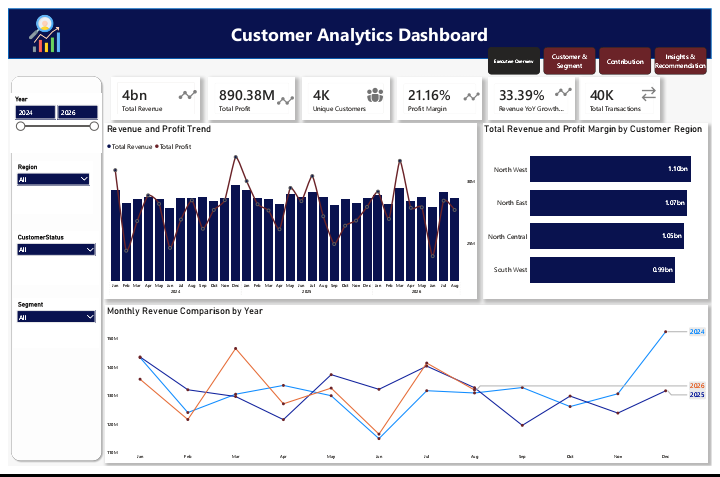

What the dashboard file says about the page in this screenshot:
{"tool":"powerbi","page":{"name":"Executive Overview","canvas":[2000,1300],"ordinal":1},"visuals":[{"type":"shape","box":[0,185.1,273.6,1106.6],"z":0},{"type":"shape","title":"EXECUTIVE BUSINESS OVERVIEW","box":[0,0,1999.4,141.9],"z":1000},{"type":"cardVisual","fields":{"Data":["Biz_Sales.Total Sales"]},"box":[294.1,194.2,250.9,121.4],"z":2000},{"type":"cardVisual","fields":{"Data":["Biz_Sales.Total Profit"]},"box":[569.8,194.2,244.8,121.4],"z":3000},{"type":"cardVisual","fields":{"Data":["Biz_Sales.Unique Customers"]},"box":[835.1,194.2,248.9,121.4],"z":4000},{"type":"cardVisual","fields":{"Data":["Biz_Sales.Profit Margin"]},"box":[1106.6,196.2,240.7,119.3],"z":5000},{"type":"cardVisual","fields":{"Data":["Biz_Sales.Total Transactions"]},"box":[1622.9,194.2,230.4,121.4],"z":6000},{"type":"cardVisual","fields":{"Data":["Biz_Sales.Revenue YoY Growth %"]},"box":[1363.8,196.2,244.8,119.3],"z":7000},{"type":"clusteredBarChart","title":"Total Revenue by Customer Region","fields":{"Y":["Biz_Sales.Total Revenue"],"Category":["Biz_Customers.Region"]},"box":[1349.4,327.1,627.4,497.8],"z":8000},{"type":"lineClusteredColumnComboChart","title":"Revenue and Profit Trend","fields":{"Category":["Date.Year","Date.MonthName"],"Y":["Biz_Sales.Total Revenue"],"Y2":["Biz_Sales.Total Profit"]},"box":[273.6,327.1,1059.3,497.8],"z":9000},{"type":"lineChart","title":"Monthly Revenue Comparison by Year","fields":{"Category":["Date.MonthName"],"Series":["Date.Year"],"Y":["Biz_Sales.Total Revenue"]},"box":[273.6,843.4,1703.2,448.4],"z":10000},{"type":"slicer","fields":{"Values":["Date.Year"]},"box":[6.2,240.7,259.2,170.7],"z":11000},{"type":"slicer","fields":{"Values":["Biz_Customers.Region"]},"box":[14.4,434,226.3,150.2],"z":12000},{"type":"slicer","fields":{"Values":["Biz_Customers.CustomerStatus"]},"box":[14.4,633.5,242.7,152.2],"z":13000},{"type":"slicer","fields":{"Values":["Biz_Customers.Segment"]},"box":[14.4,824.8,242.7,139.9],"z":14000},{"type":"pageNavigator","box":[1363.8,109,625.3,78.2],"z":15000},{"type":"image","box":[479.3,207.8,61.7,72],"z":16000},{"type":"image","box":[759,230.4,57.6,61.7],"z":17000},{"type":"image","box":[1289.7,209.8,55.5,78.2],"z":18000},{"type":"image","box":[1546.8,207.8,61.7,57.6],"z":19000},{"type":"image","box":[1797.8,218,47.3,49.4],"z":21000},{"type":"image","box":[1018.2,209.8,49.4,69.9],"z":22000},{"type":"image","box":[14.4,16.5,176.9,109],"z":23000}]}

Visuals, with their boxes in screenshot pixels (x1, y1, x2, y2), scaled from the page's 2000x1300 canvas onto the 720x477 screenshot:
shape: bbox=[0, 68, 98, 474]
"EXECUTIVE BUSINESS OVERVIEW" shape: bbox=[0, 0, 719, 52]
cardVisual - Biz_Sales.Total Sales: bbox=[106, 71, 196, 116]
cardVisual - Biz_Sales.Total Profit: bbox=[205, 71, 293, 116]
cardVisual - Biz_Sales.Unique Customers: bbox=[301, 71, 390, 116]
cardVisual - Biz_Sales.Profit Margin: bbox=[398, 72, 485, 116]
cardVisual - Biz_Sales.Total Transactions: bbox=[584, 71, 667, 116]
cardVisual - Biz_Sales.Revenue YoY Growth %: bbox=[491, 72, 579, 116]
"Total Revenue by Customer Region" clusteredBarChart: bbox=[486, 120, 712, 303]
"Revenue and Profit Trend" lineClusteredColumnComboChart: bbox=[98, 120, 480, 303]
"Monthly Revenue Comparison by Year" lineChart: bbox=[98, 309, 712, 474]
slicer - Date.Year: bbox=[2, 88, 96, 151]
slicer - Biz_Customers.Region: bbox=[5, 159, 87, 214]
slicer - Biz_Customers.CustomerStatus: bbox=[5, 232, 93, 288]
slicer - Biz_Customers.Segment: bbox=[5, 303, 93, 354]
pageNavigator: bbox=[491, 40, 716, 69]
image: bbox=[173, 76, 195, 103]
image: bbox=[273, 85, 294, 107]
image: bbox=[464, 77, 484, 106]
image: bbox=[557, 76, 579, 97]
image: bbox=[647, 80, 664, 98]
image: bbox=[367, 77, 384, 103]
image: bbox=[5, 6, 69, 46]
